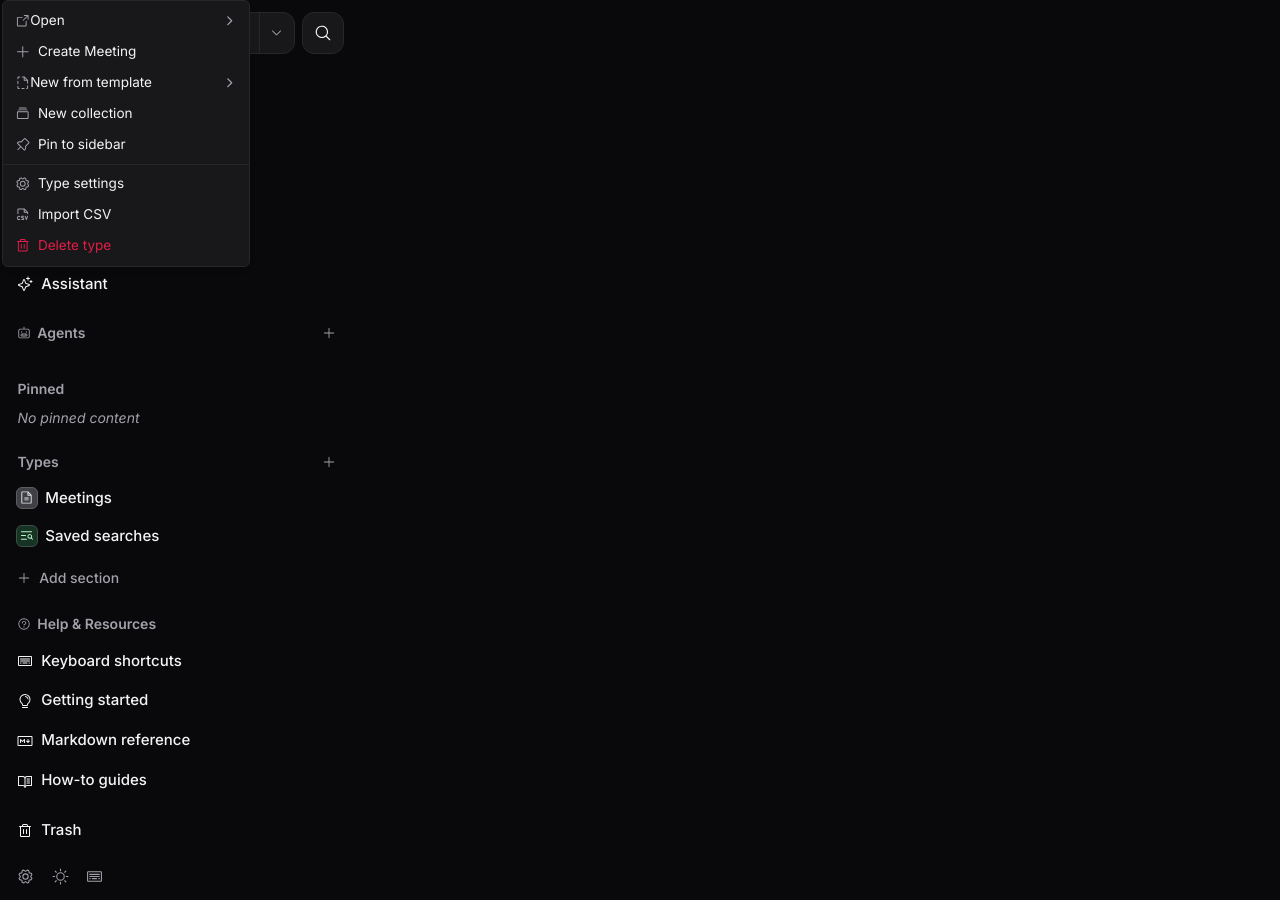
Sidebar type context menu › Import opens the CSV import dialog for the type
Click the menu item "Import CSV". click: [63, 215]
box: [15, 206, 111, 223]
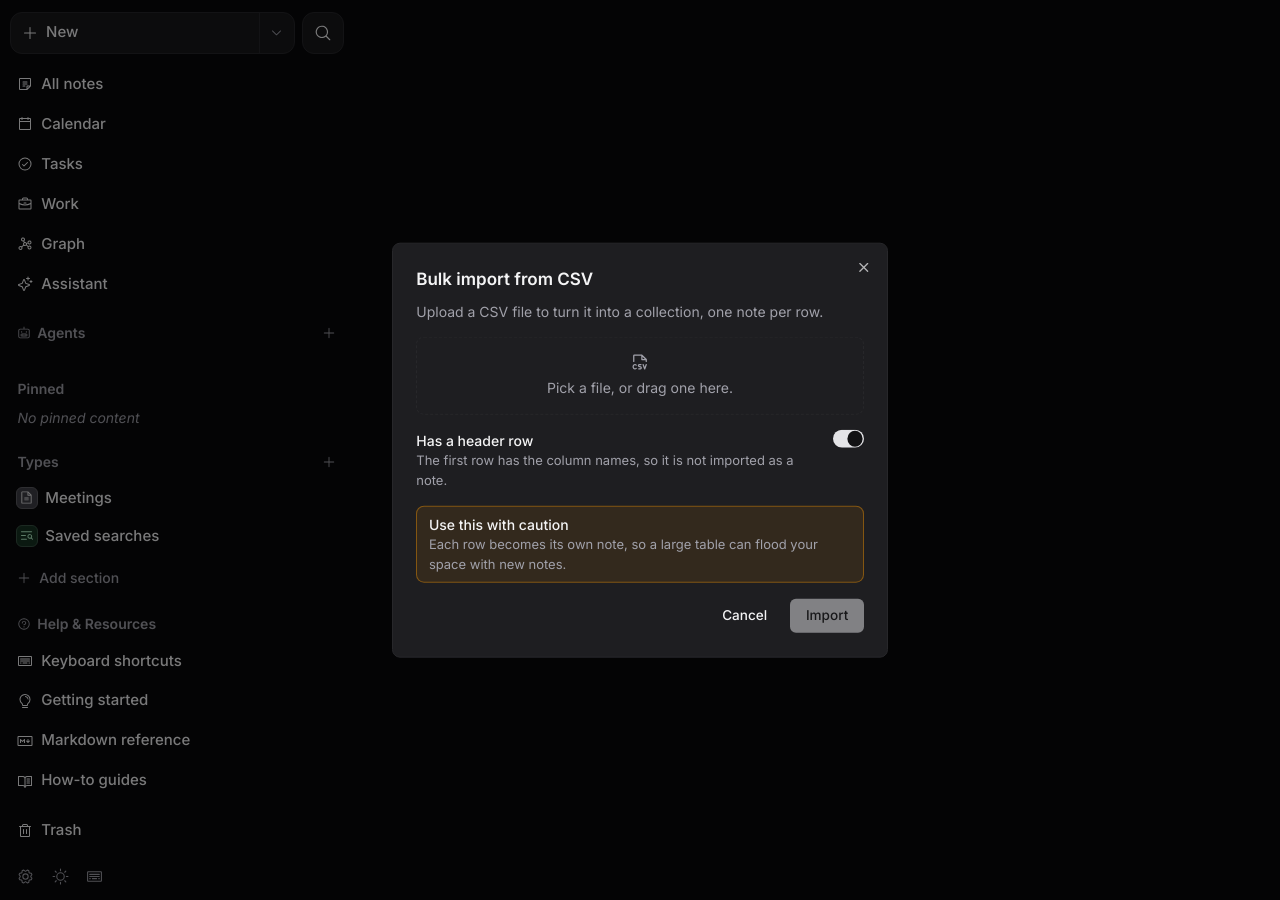
Expected: the dialog is shown, [392, 243, 888, 657]
